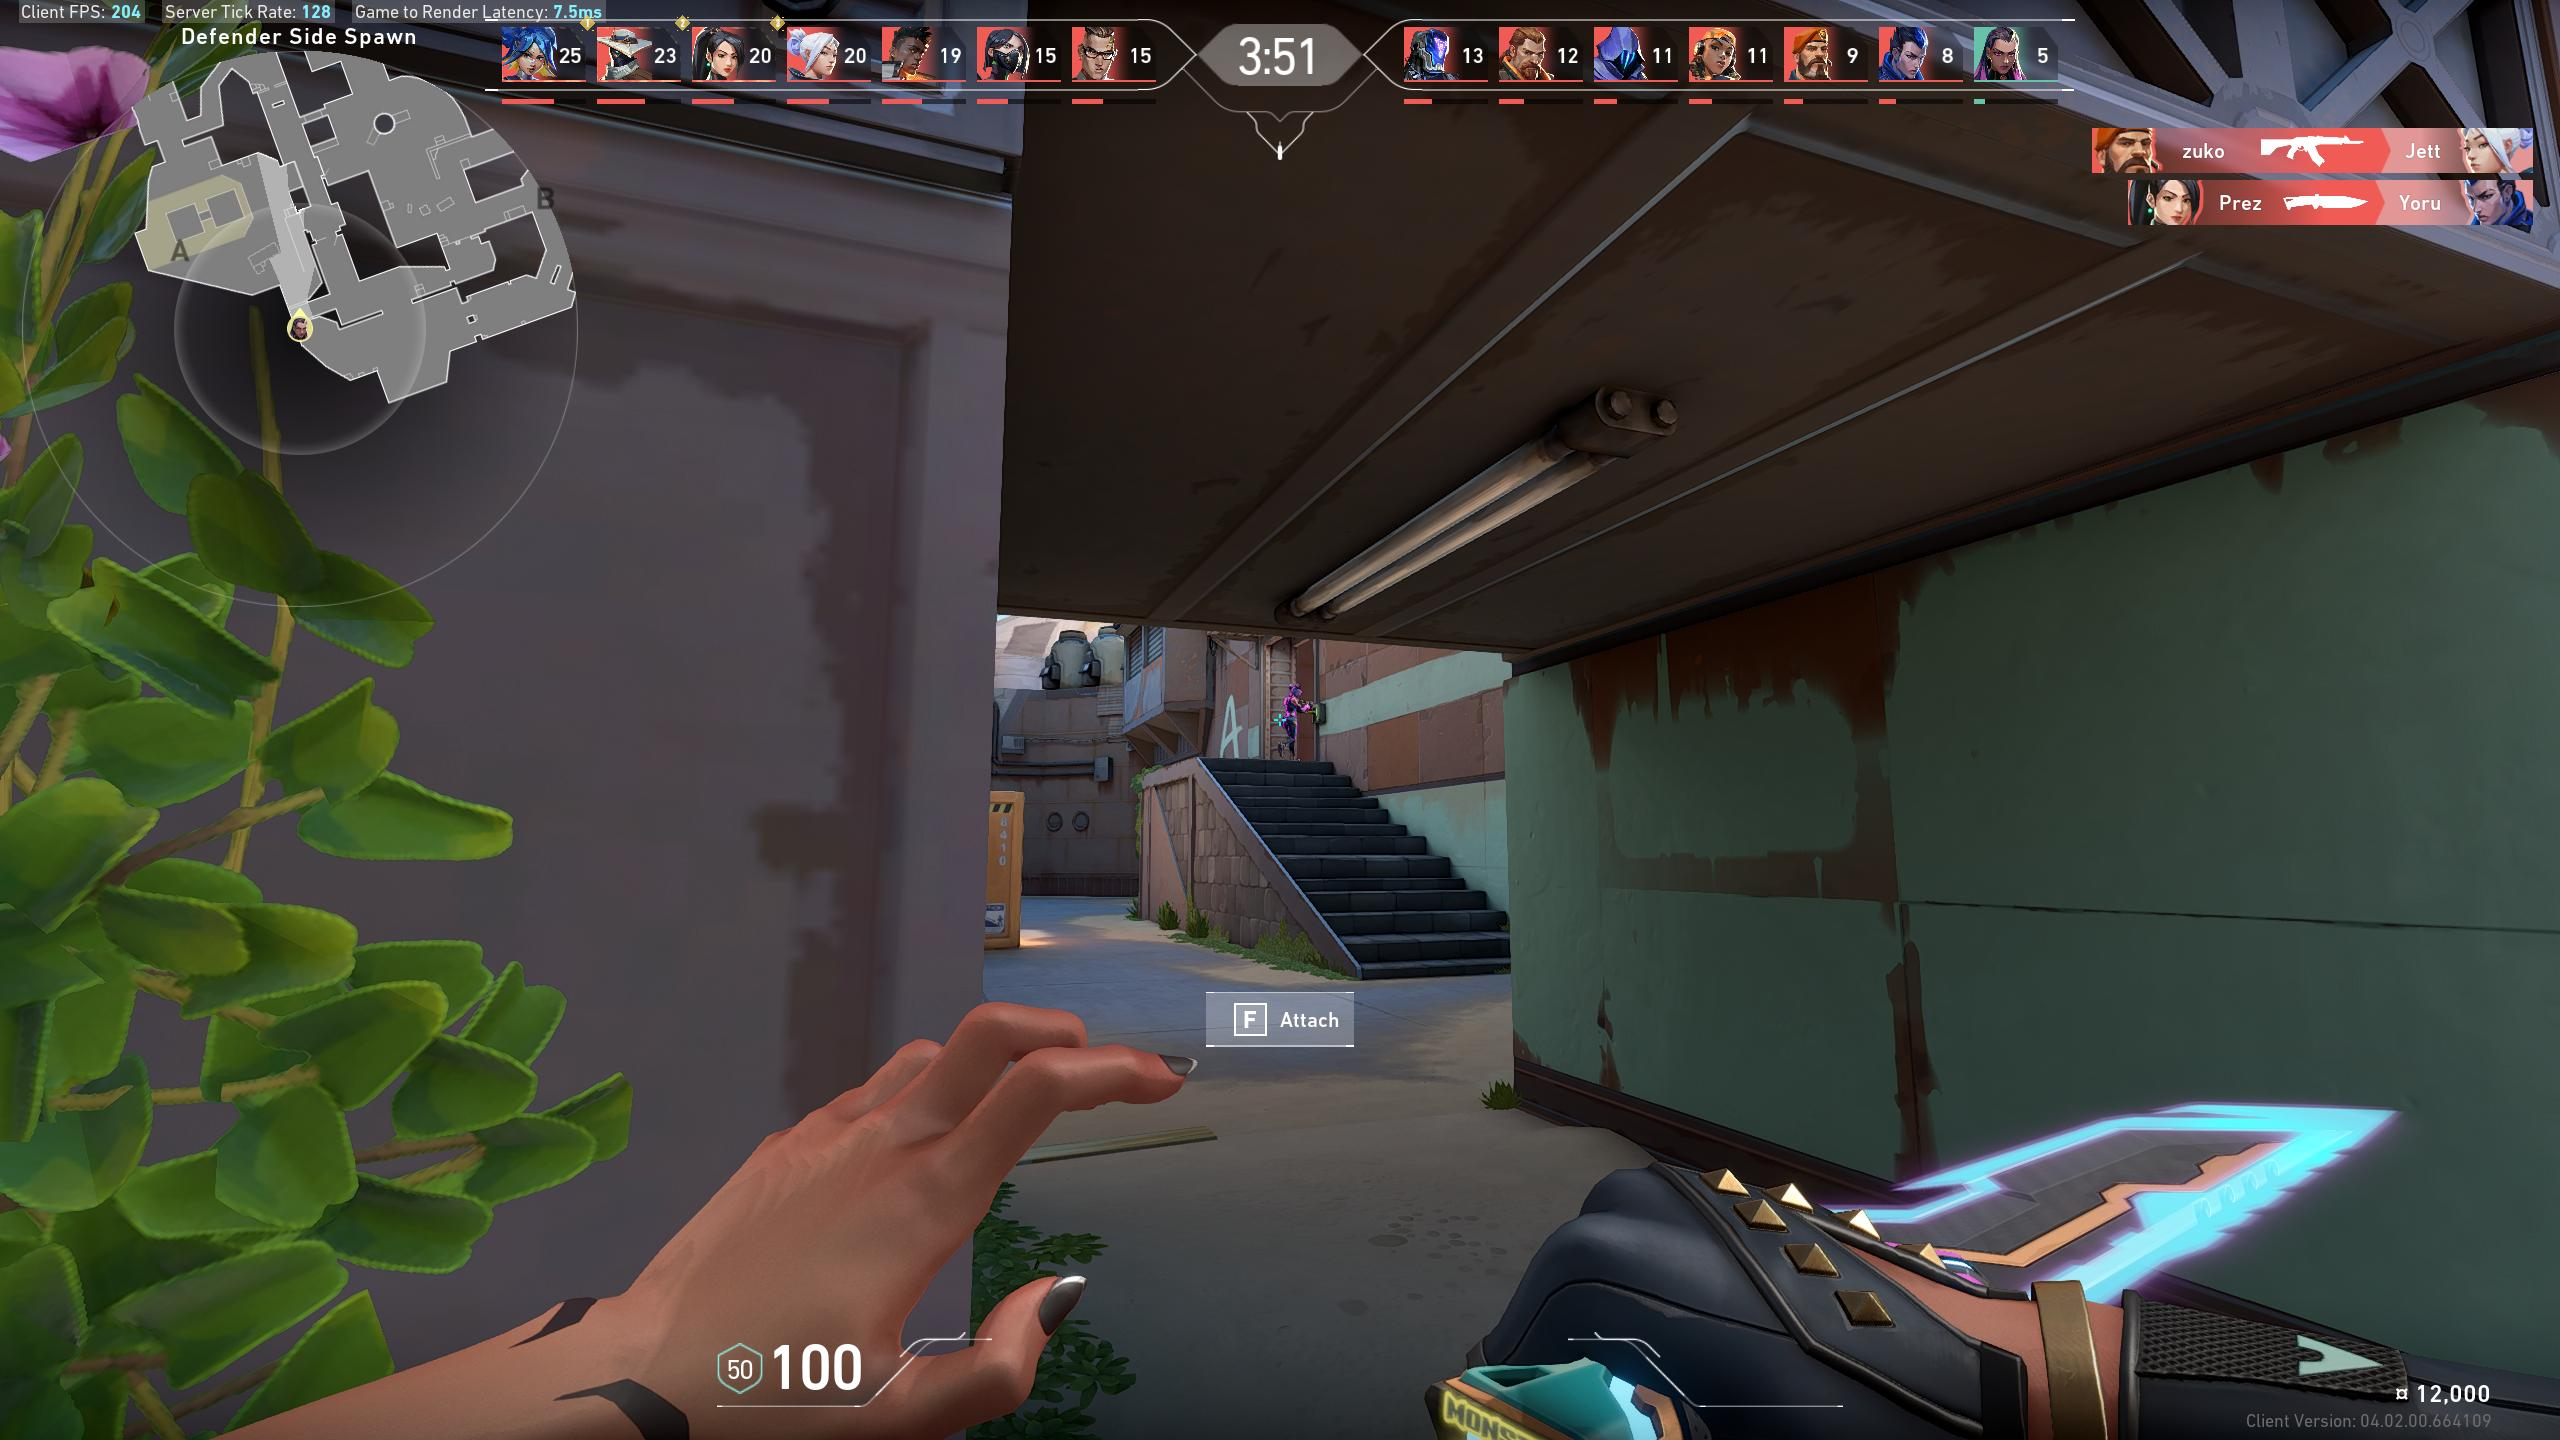enemyBody: (1289, 698, 1296, 717)
enemyHead: (1292, 689, 1299, 696)
